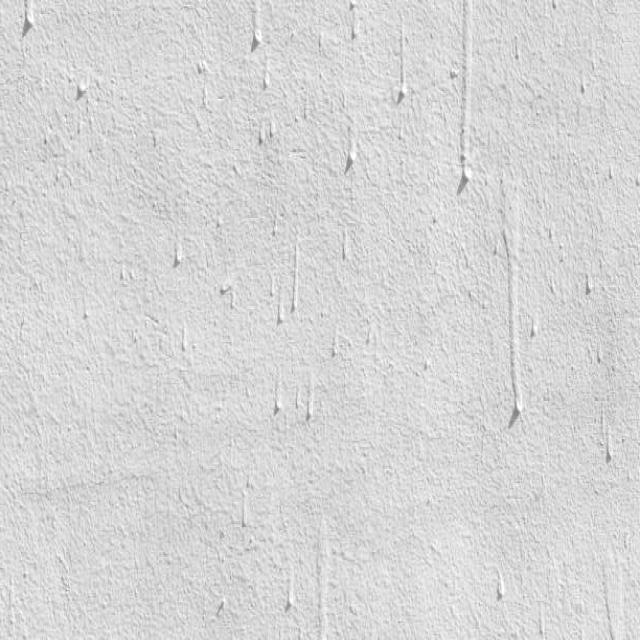paint drips: (501, 151, 527, 441), (262, 198, 312, 334), (456, 0, 482, 192), (306, 516, 338, 640), (599, 537, 633, 640), (398, 0, 417, 126), (340, 107, 366, 182), (277, 543, 298, 627), (214, 260, 240, 325), (168, 214, 187, 290), (238, 464, 256, 542), (327, 297, 345, 370), (302, 365, 322, 429), (246, 0, 270, 52), (599, 408, 617, 477), (577, 251, 600, 304), (271, 348, 287, 420), (494, 553, 513, 610), (68, 67, 92, 110), (568, 60, 590, 104), (255, 111, 276, 157), (17, 0, 38, 45), (530, 305, 548, 353), (347, 0, 363, 53), (259, 53, 279, 93), (532, 600, 550, 640), (512, 29, 528, 74), (340, 221, 353, 275), (177, 309, 191, 359), (212, 196, 226, 238), (292, 374, 302, 419), (591, 344, 604, 372)
